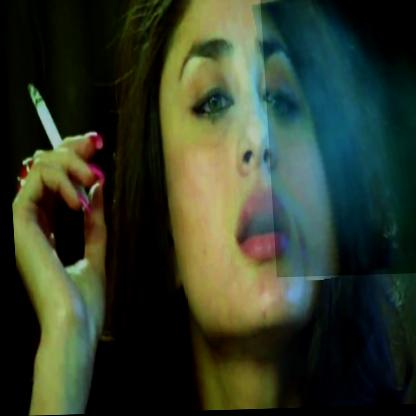smoke: (260, 0, 416, 279)
